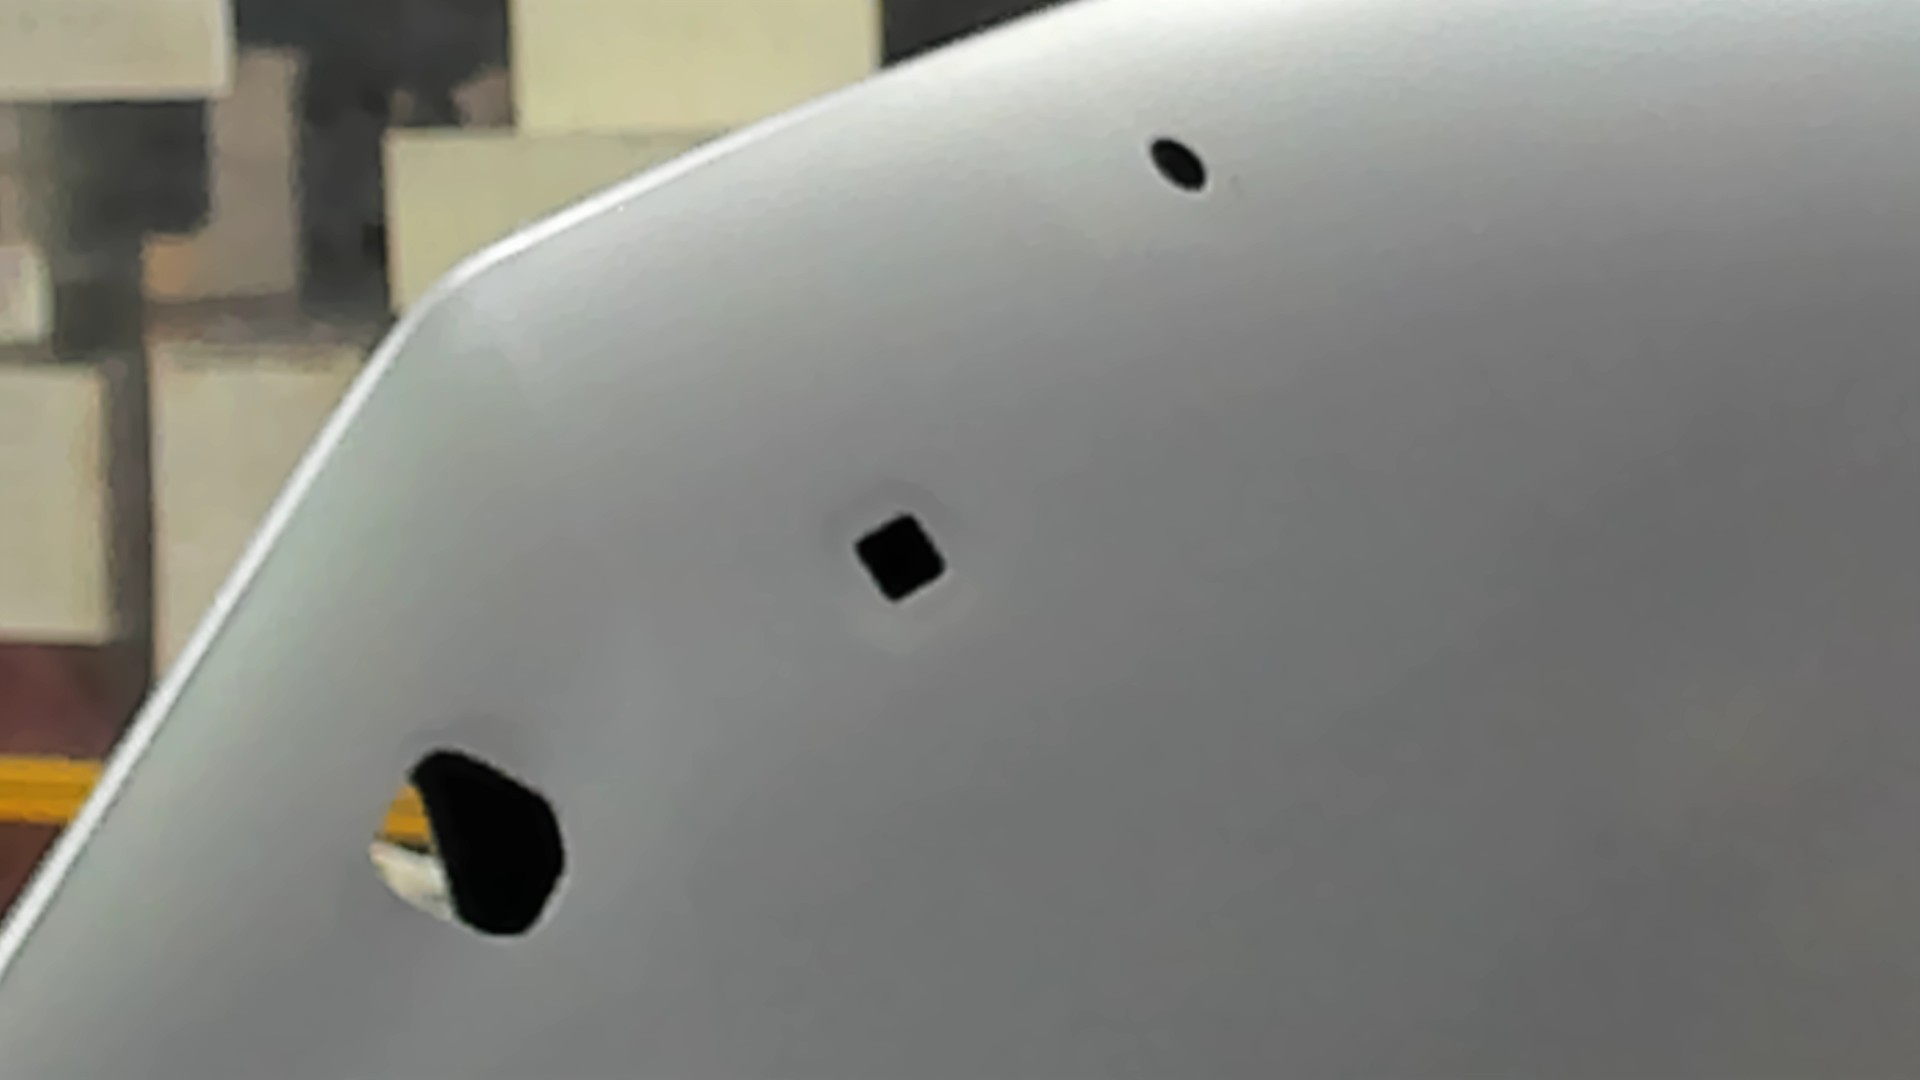chico: (1142, 131, 1215, 196)
grande: (363, 745, 580, 949)
mediano: (848, 510, 949, 609)
